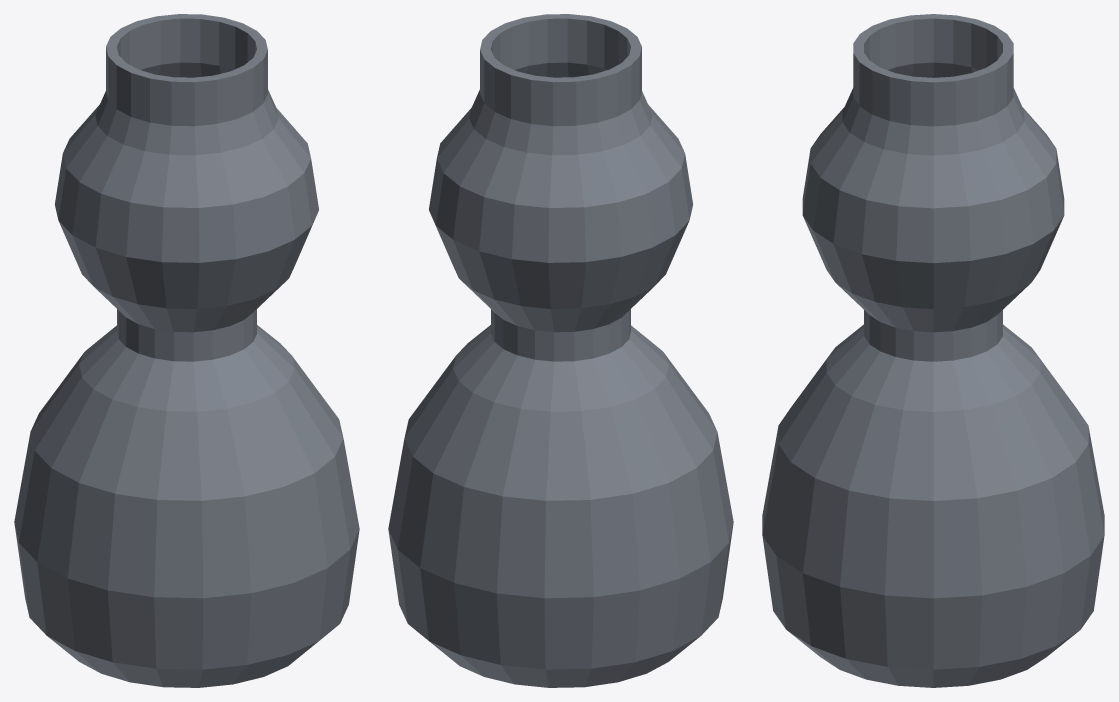
File: jar_hourglass.obj
3 renders of one model, left to right at view 1: azimuth 30°, elevation 25°; view 2: azimuth 150°, elevation 25°; view 3: azimuth 270°, elevation 25°, orthographic.
Visible parts, largest first — view 1: jar_hourglass; view 2: jar_hourglass; view 3: jar_hourglass.
Boxes of the visible parts, left/top/right/bottom form: jar_hourglass: left=14, top=14, right=359, bottom=687; jar_hourglass: left=388, top=14, right=733, bottom=687; jar_hourglass: left=762, top=14, right=1104, bottom=687.
Bounding box in the file's own units: 0.128 × 0.24 × 0.1267.
1 material, 1 textured.
